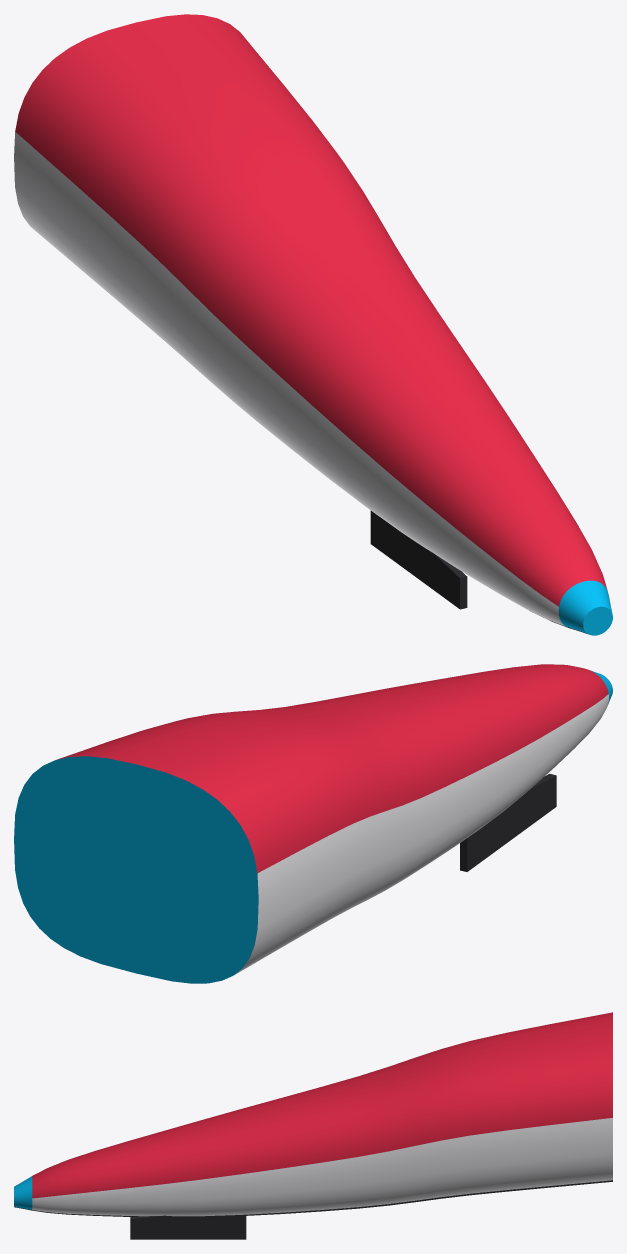
File: pointed.glb
The picture shows the model from 3 angles, top to bottom: view 1: azimuth 30°, elevation 25°; view 2: azimuth 150°, elevation 25°; view 3: azimuth 270°, elevation 25°; orthographic projection. The views are drawn at different scales.
Visible parts, largest first — view 1: Nose_pointed; view 2: Nose_pointed; view 3: Nose_pointed.
Boxes of the visible parts, x1,y1,x2,y2 form: Nose_pointed: [14, 14, 612, 635]; Nose_pointed: [14, 664, 612, 983]; Nose_pointed: [14, 1012, 612, 1239].
Bounding box in the file's own units: 0.41 × 0.485 × 1.34.
